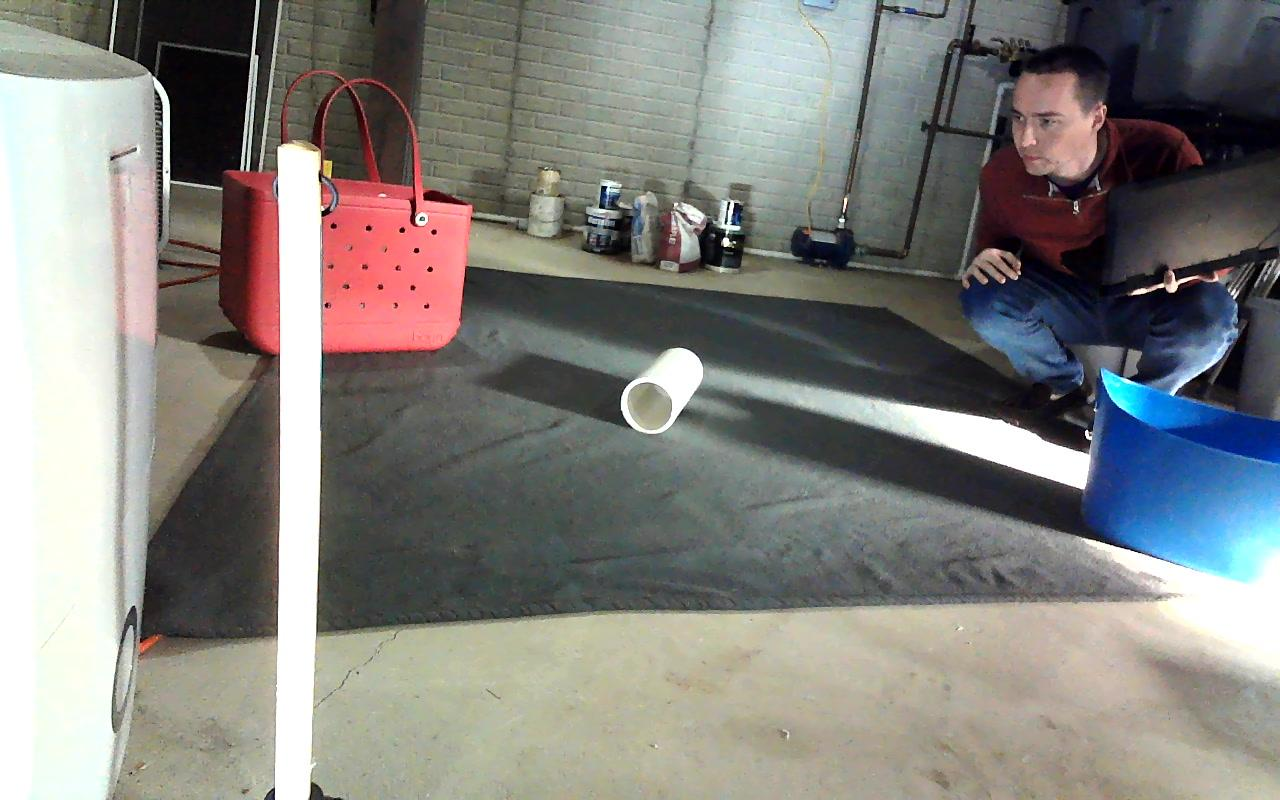coral: (621, 348, 702, 433)
